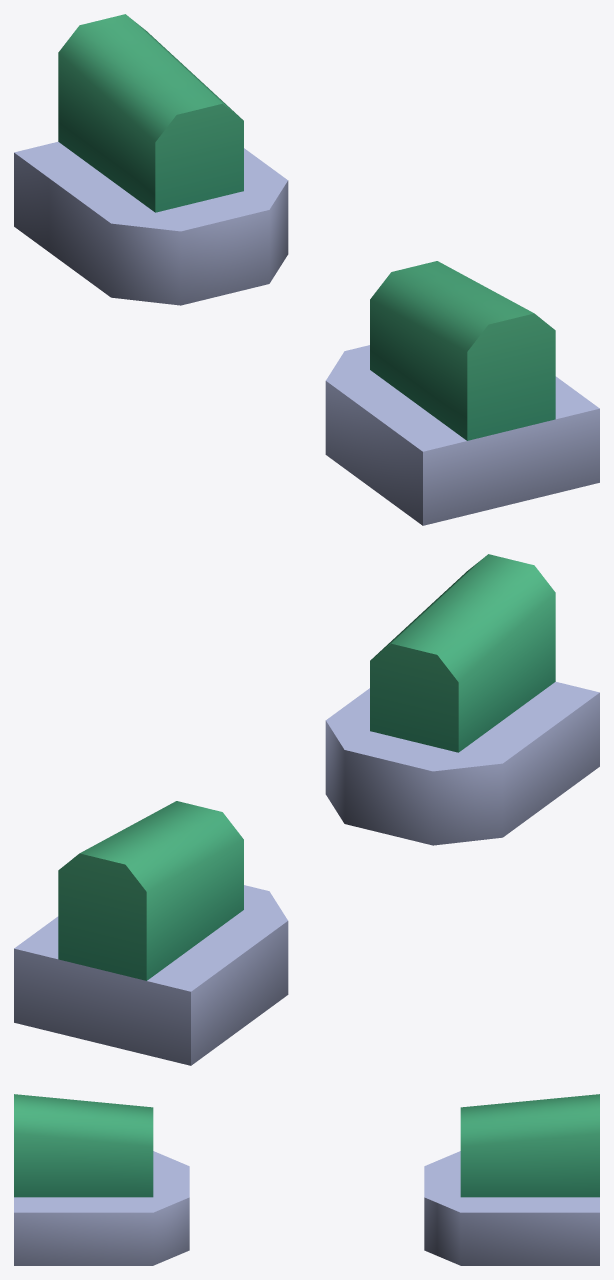
The model's file is hedge-gate.glb.
3 renders of one model, top to bottom at view 1: azimuth 30°, elevation 25°; view 2: azimuth 150°, elevation 25°; view 3: azimuth 270°, elevation 25°, orthographic. The views are drawn at different scales.
Visible parts, largest first — view 1: hedge-gate; view 2: hedge-gate; view 3: hedge-gate.
Part boxes in pixels (x1=…): hedge-gate: x1=14, y1=14, x2=599, y2=525; hedge-gate: x1=14, y1=554, x2=599, y2=1065; hedge-gate: x1=14, y1=1094, x2=599, y2=1265.
Bounding box in the file's own units: 0.25 × 0.25 × 1.
Materials: 1 (1 with a texture image).
